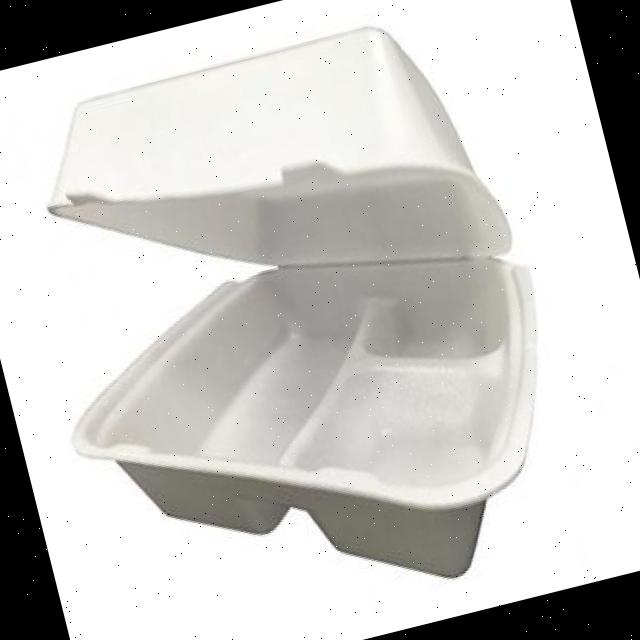styrofoam: (0, 0, 598, 640), (20, 0, 518, 361)
